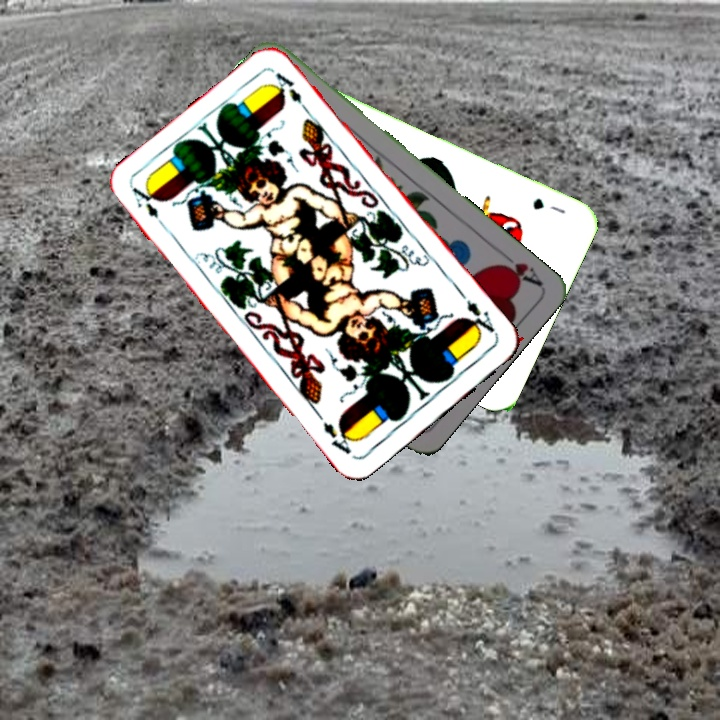EA: (128, 183, 170, 233), (462, 295, 500, 340)
GU: (528, 193, 568, 217)
HA: (491, 246, 544, 289)
